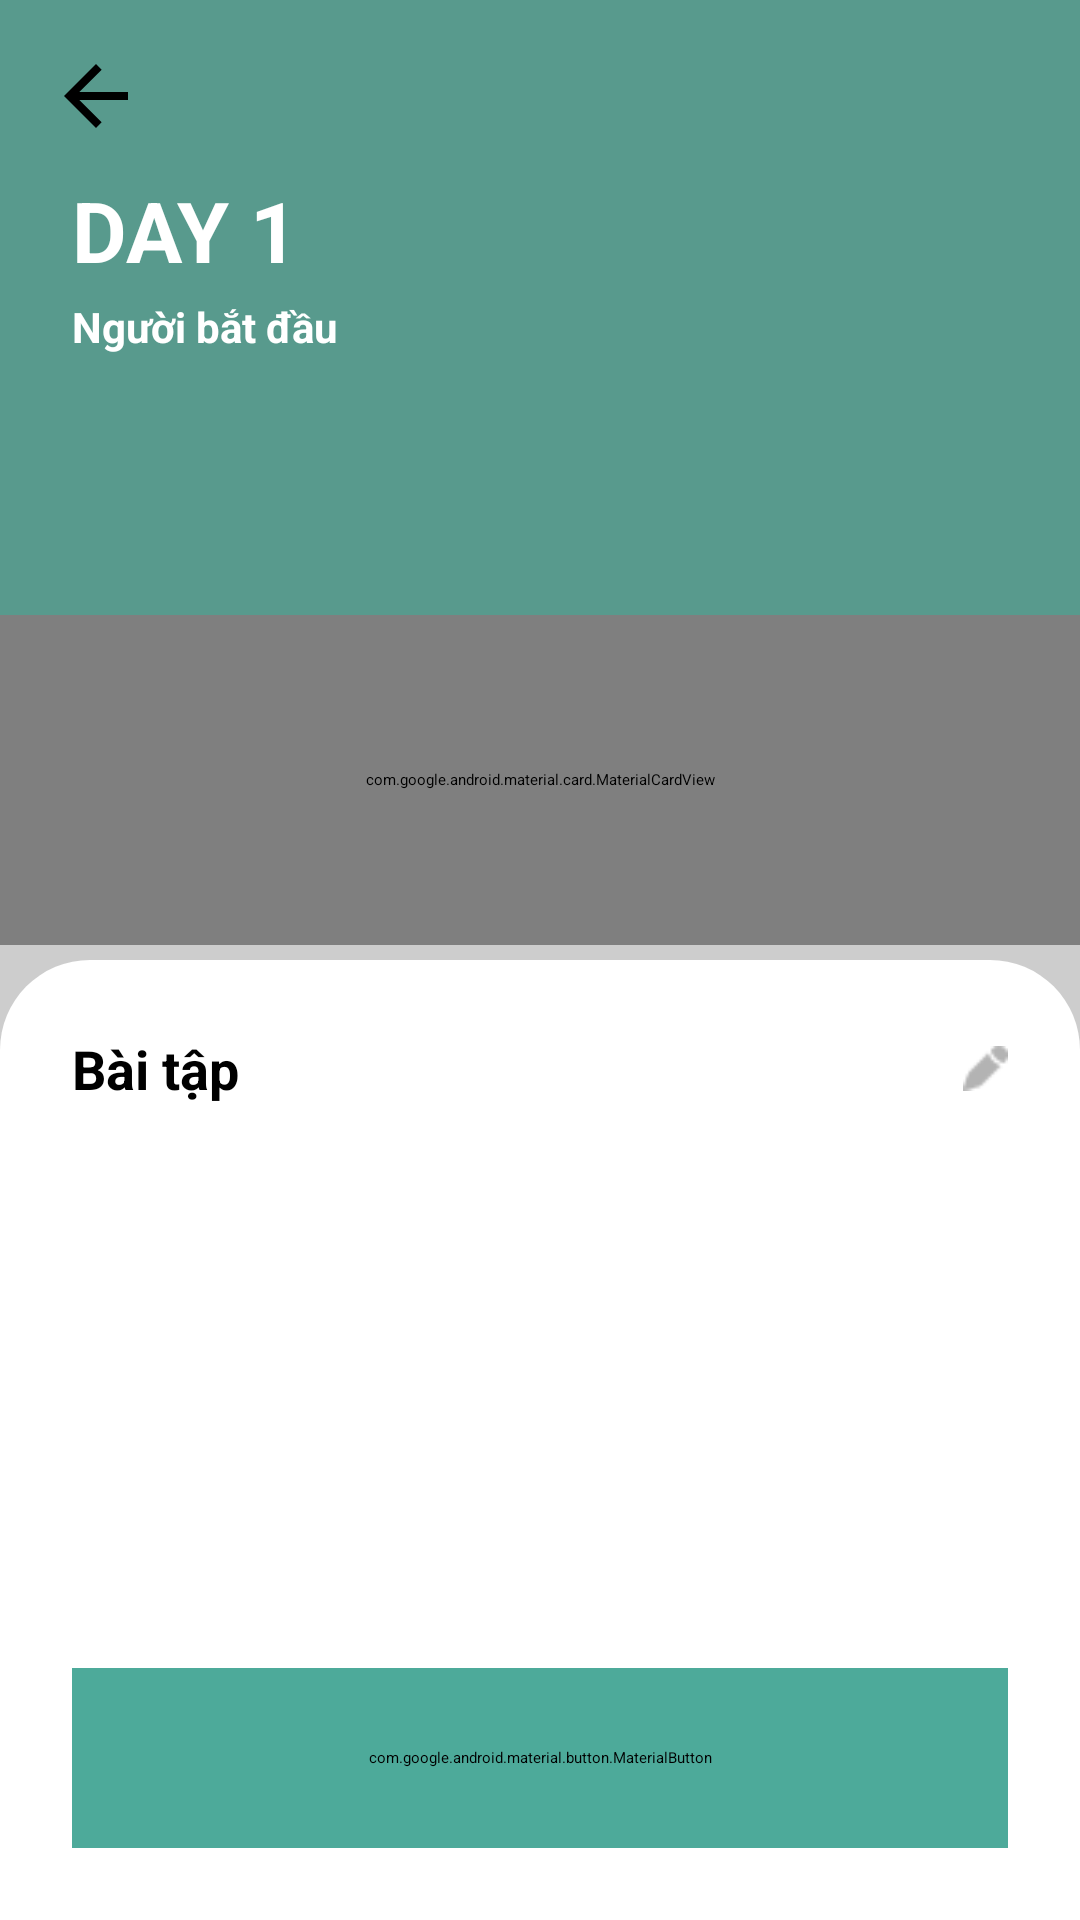

Screen size 1080w x 1920h. Icon name, then its box in pixels as box(x1, y1, x2, y2):
arrow back breakfast: box(64, 64, 128, 128)
edit: box(963, 1046, 1008, 1091)
